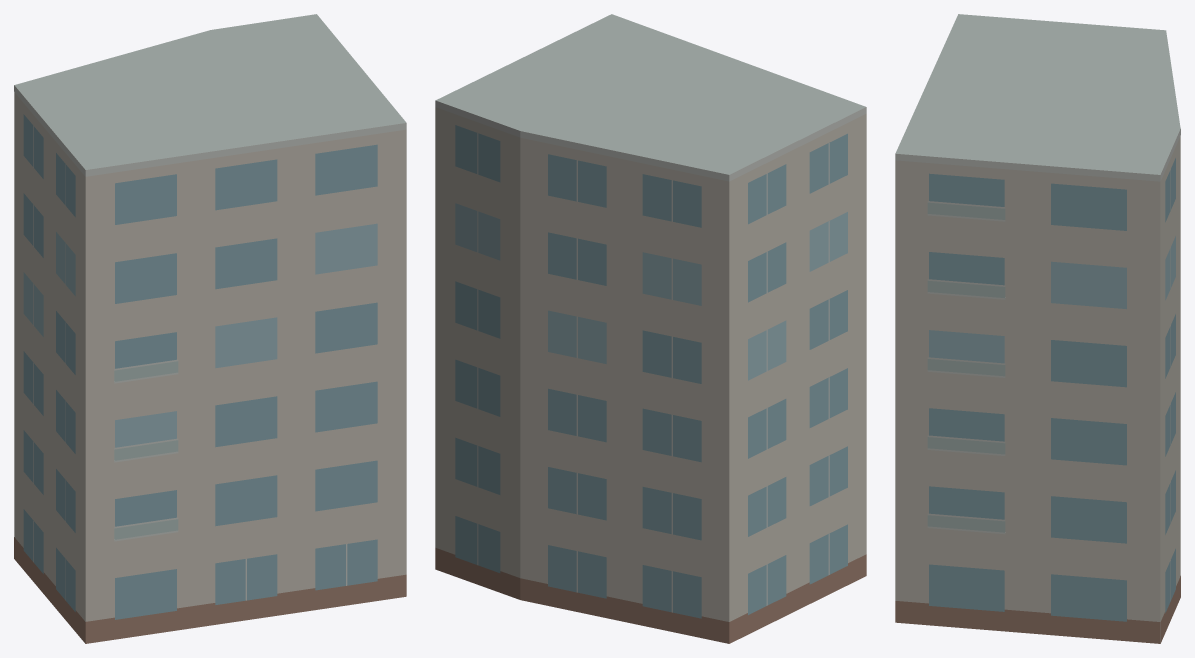
The model's file is survey-upis-32702099.glb.
The picture shows the model from 3 angles, left to right: view 1: azimuth 30°, elevation 25°; view 2: azimuth 150°, elevation 25°; view 3: azimuth 270°, elevation 25°; orthographic projection.
Parts seen in each view (by area): view 1: survey-upis-32702099.tmp; view 2: survey-upis-32702099.tmp; view 3: survey-upis-32702099.tmp.
Boxes of the visible parts, x1,y1,x2,y2 form: survey-upis-32702099.tmp: [14, 14, 406, 643]; survey-upis-32702099.tmp: [435, 14, 866, 643]; survey-upis-32702099.tmp: [895, 14, 1180, 643].
Size of the model in its own units: 12.67 by 17.2 by 9.5.
